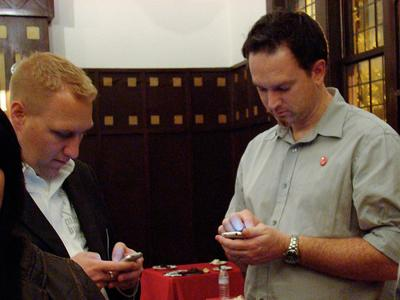person: (216, 10, 400, 299)
